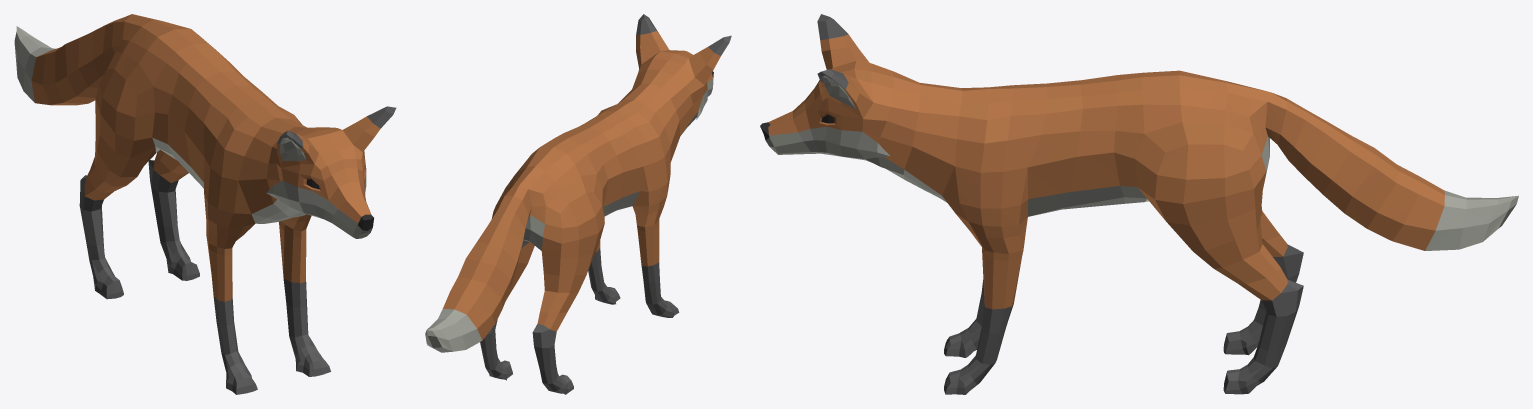
The model's file is fox.glb.
3 renders of one model, left to right at view 1: azimuth 30°, elevation 25°; view 2: azimuth 150°, elevation 25°; view 3: azimuth 270°, elevation 25°, orthographic. The views are drawn at different scales.
Parts seen in each view (by area): view 1: Fox; view 2: Fox; view 3: Fox.
Boxes of the visible parts, x1,y1,x2,y2 form: Fox: [14, 14, 396, 394]; Fox: [425, 14, 731, 394]; Fox: [760, 14, 1518, 394].
Bounding box in the file's own units: 1.05 × 2.67 × 5.6.
